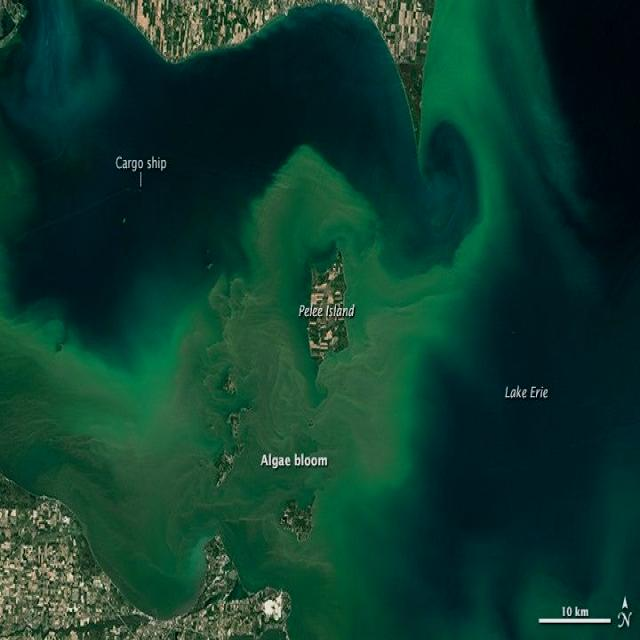algal: (0, 0, 606, 638)
